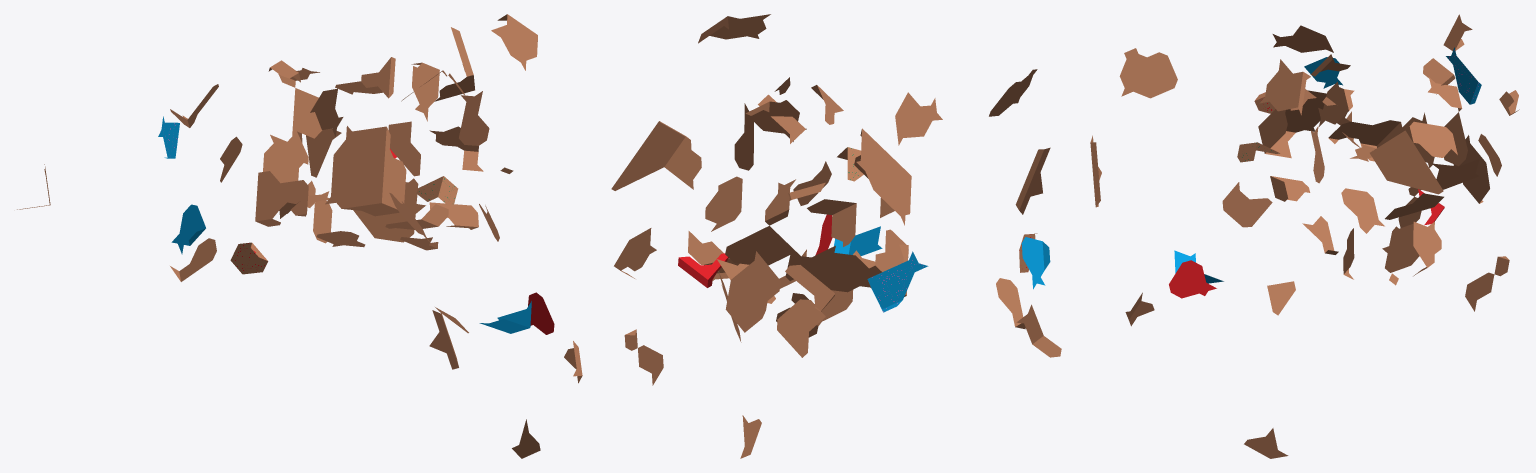
The model's file is explode_000122.obj.
3 views of the same model, side by side, from view 1: azimuth 30°, elevation 25°; view 2: azimuth 150°, elevation 25°; view 3: azimuth 270°, elevation 25° (orthographic). The views are drawn at different scales.
Parts seen in each view (by area): view 1: Cube_Cube.001; view 2: Cube_Cube.001; view 3: Cube_Cube.001.
Part boxes in pixels (x1,y1,x2,y2): Cube_Cube.001: (17,14,582,458); Cube_Cube.001: (611,14,1061,458); Cube_Cube.001: (1090,14,1519,458).
Size of the model in its own units: 6.65 by 5.96 by 5.99.
